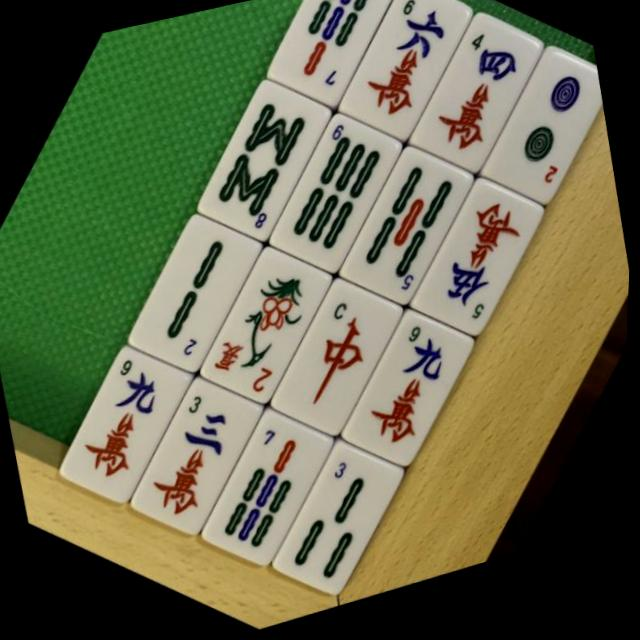bs2: (183, 244, 351, 420)
hdr: (243, 266, 431, 462)
sb2: (111, 208, 284, 389)
sb3: (261, 445, 419, 612)
sb5: (323, 145, 492, 322)
sb6: (244, 104, 430, 298)
sb7: (181, 400, 357, 583), (251, 0, 424, 129)
sb8: (183, 78, 351, 255)
sc3: (104, 361, 294, 560)
sc4: (391, 15, 561, 194)
sc5: (395, 182, 562, 357)
sc6: (317, 0, 493, 162)
sc9: (316, 299, 503, 494), (37, 335, 213, 520)
sd2: (458, 45, 624, 230)
